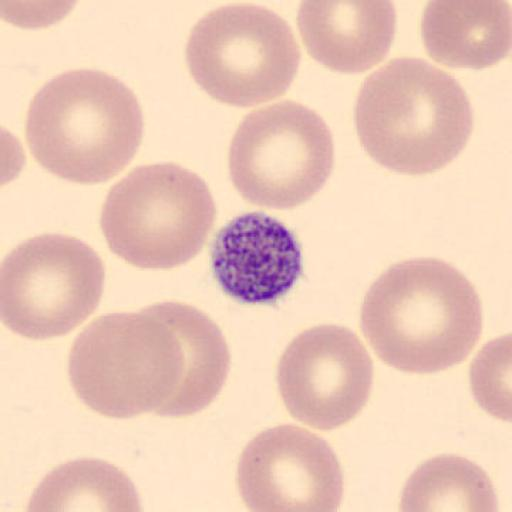Platelet: (207, 208, 309, 307)
RBC: (352, 54, 477, 178), (358, 253, 484, 376), (22, 65, 146, 187), (97, 160, 219, 272), (65, 310, 185, 421), (183, 1, 302, 109), (226, 98, 336, 212), (132, 297, 232, 420), (2, 231, 108, 342), (274, 321, 375, 432), (234, 420, 348, 512), (294, 0, 398, 76), (23, 455, 144, 512), (419, 0, 512, 71), (396, 451, 500, 512), (468, 331, 512, 425), (2, 0, 85, 31), (1, 122, 27, 188)
